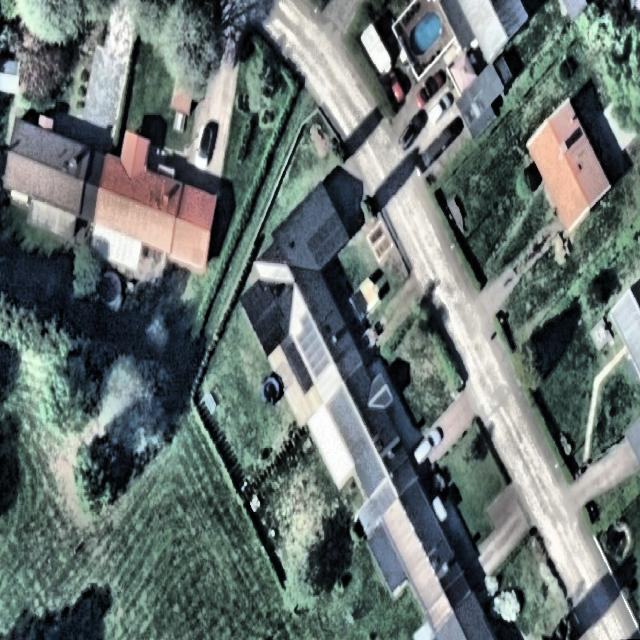roof_pv: (294, 308, 331, 382)
